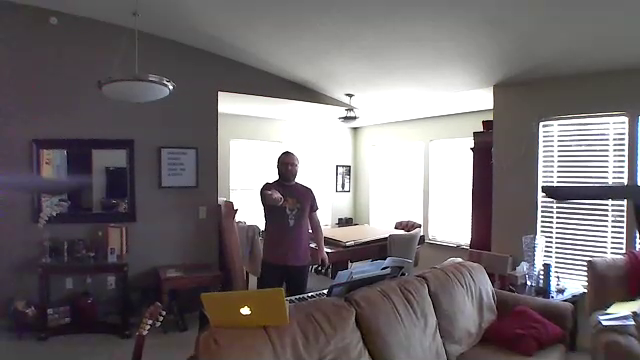land: (260, 186, 288, 207)
